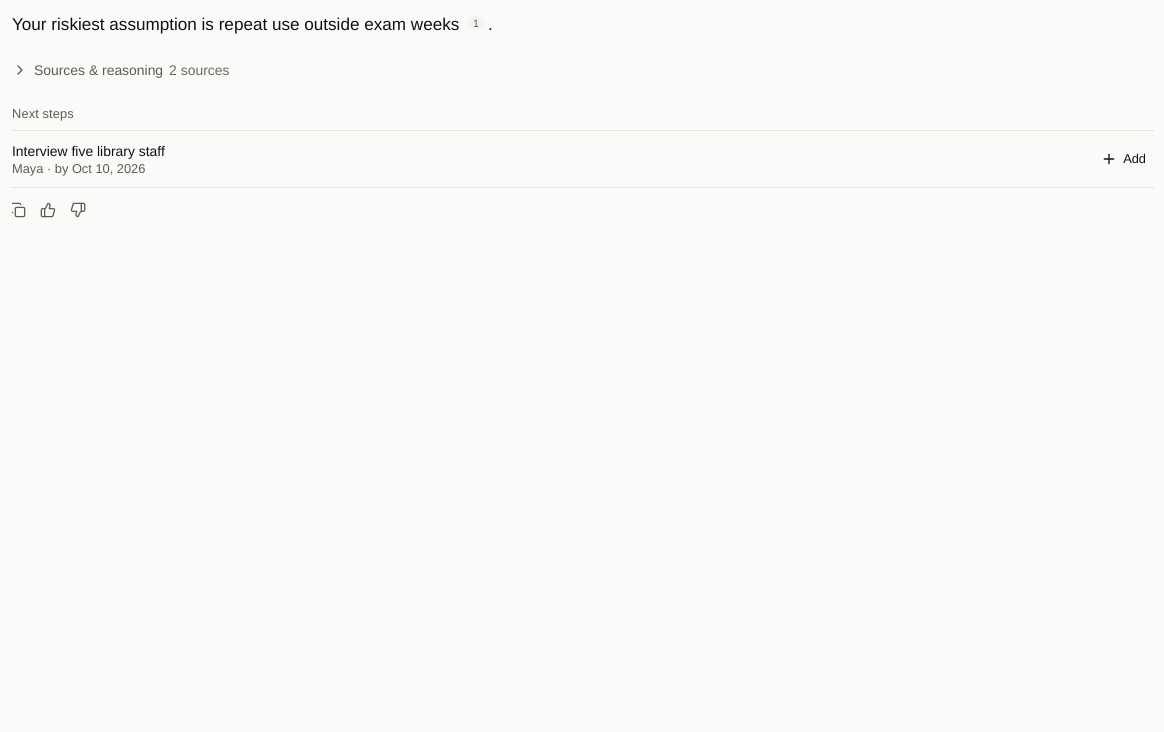
VeirAnswer › keeps the reasoning collapsed and opens a cited source from the prose
This screenshot has width=1164, height=732.
Step 1. Click the button named "Source 1: 14 problem interviews with undergraduates" → (476, 22), box [468, 14, 484, 30]
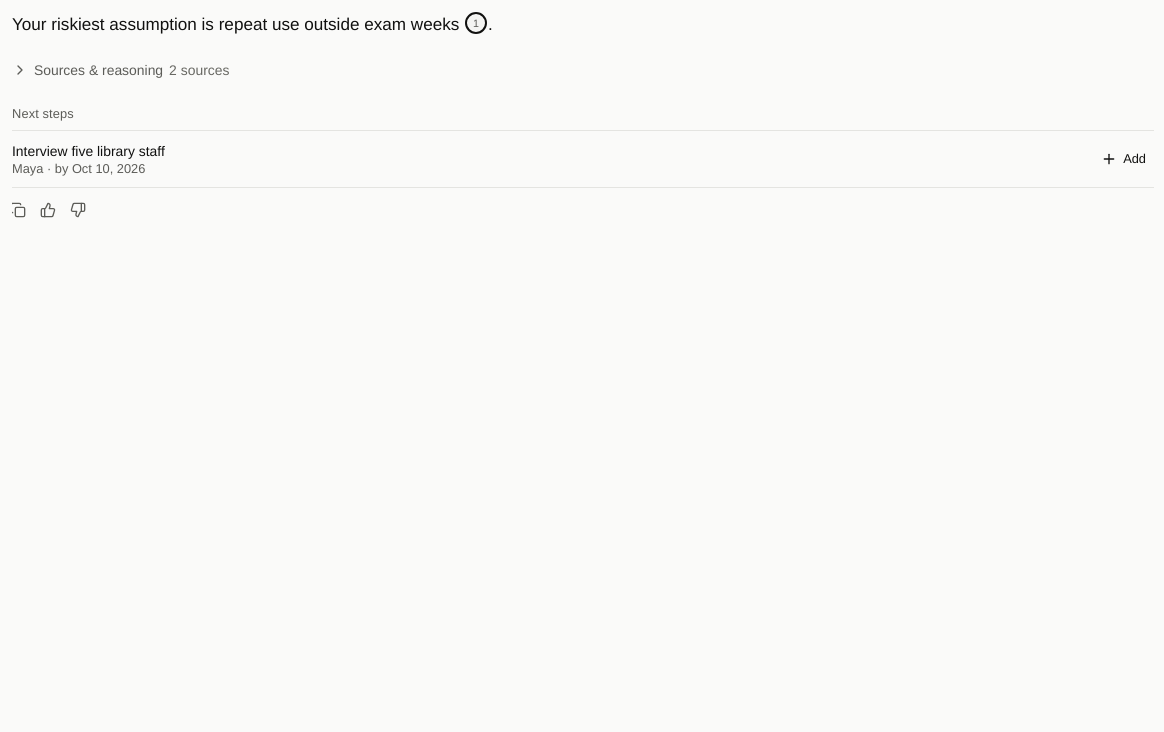
Step 2. Click the button "Sources & reasoning 2 sources" → (124, 70), box [12, 54, 235, 86]
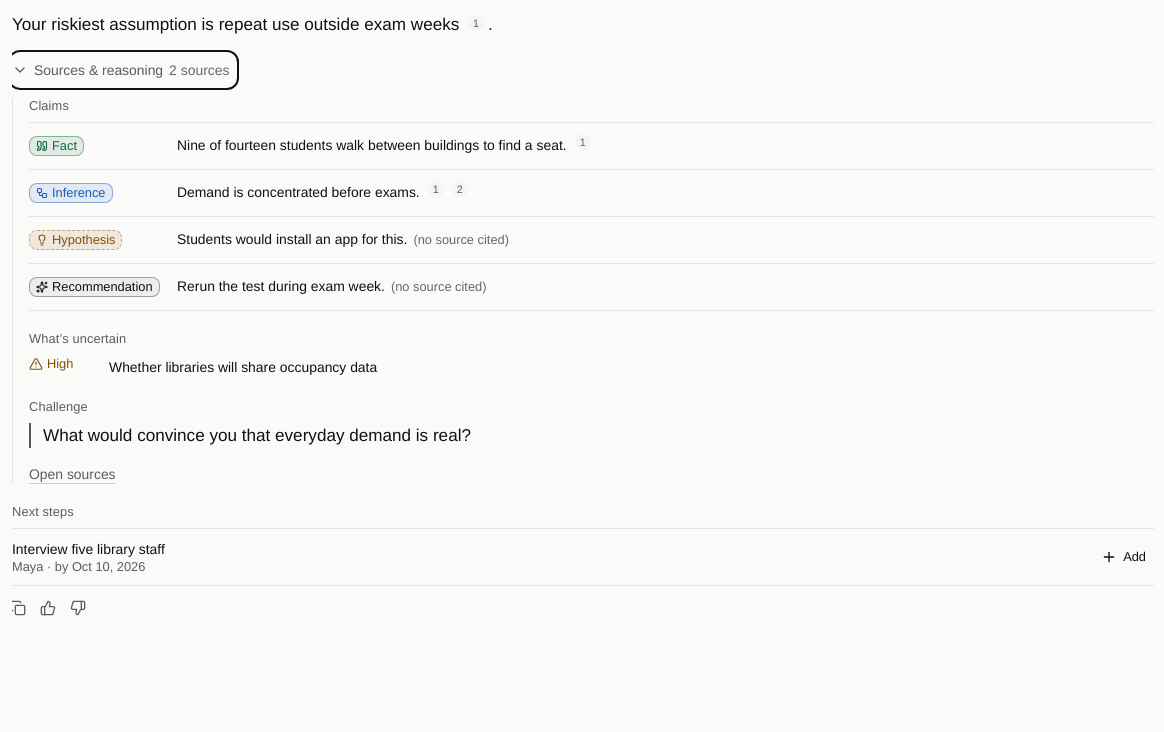
Expected: the list named "Claims and their sources" is shown, [29, 122, 1154, 311]
